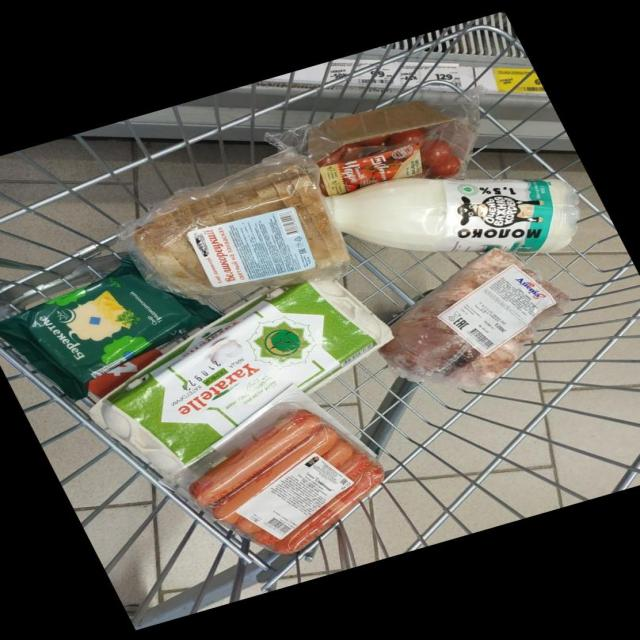Bread: (121, 150, 349, 299)
Cheese: (0, 258, 219, 399)
Eggs: (89, 279, 391, 474)
Meat: (379, 248, 569, 388)
Milk: (325, 177, 580, 252)
Sausages: (169, 384, 385, 553)
Tomatoes: (420, 138, 453, 166), (387, 126, 427, 146), (429, 155, 460, 177), (317, 146, 346, 165), (344, 142, 363, 160), (357, 135, 388, 146)
